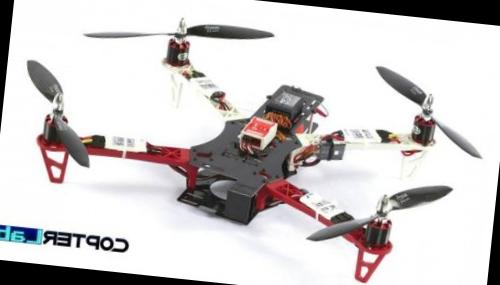drone: (0, 0, 489, 285)
